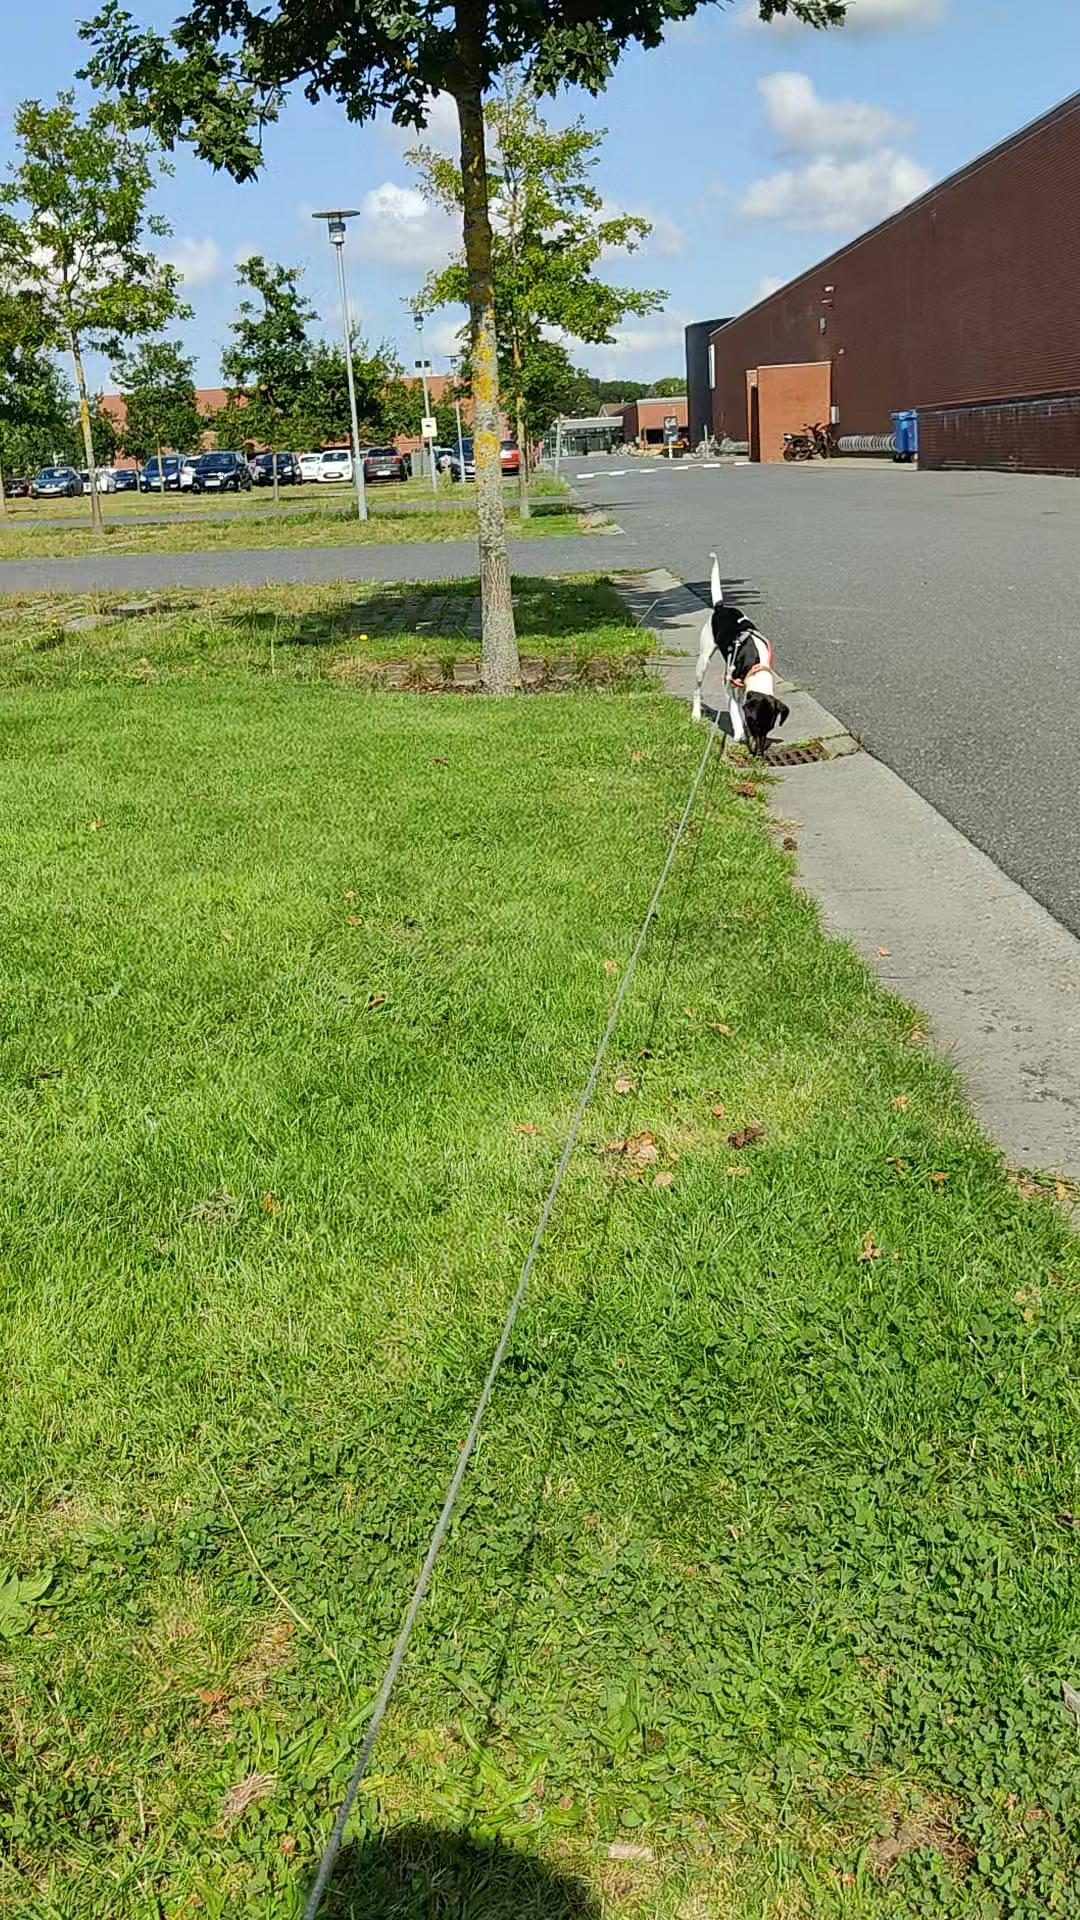Dog: (687, 546, 791, 756)
